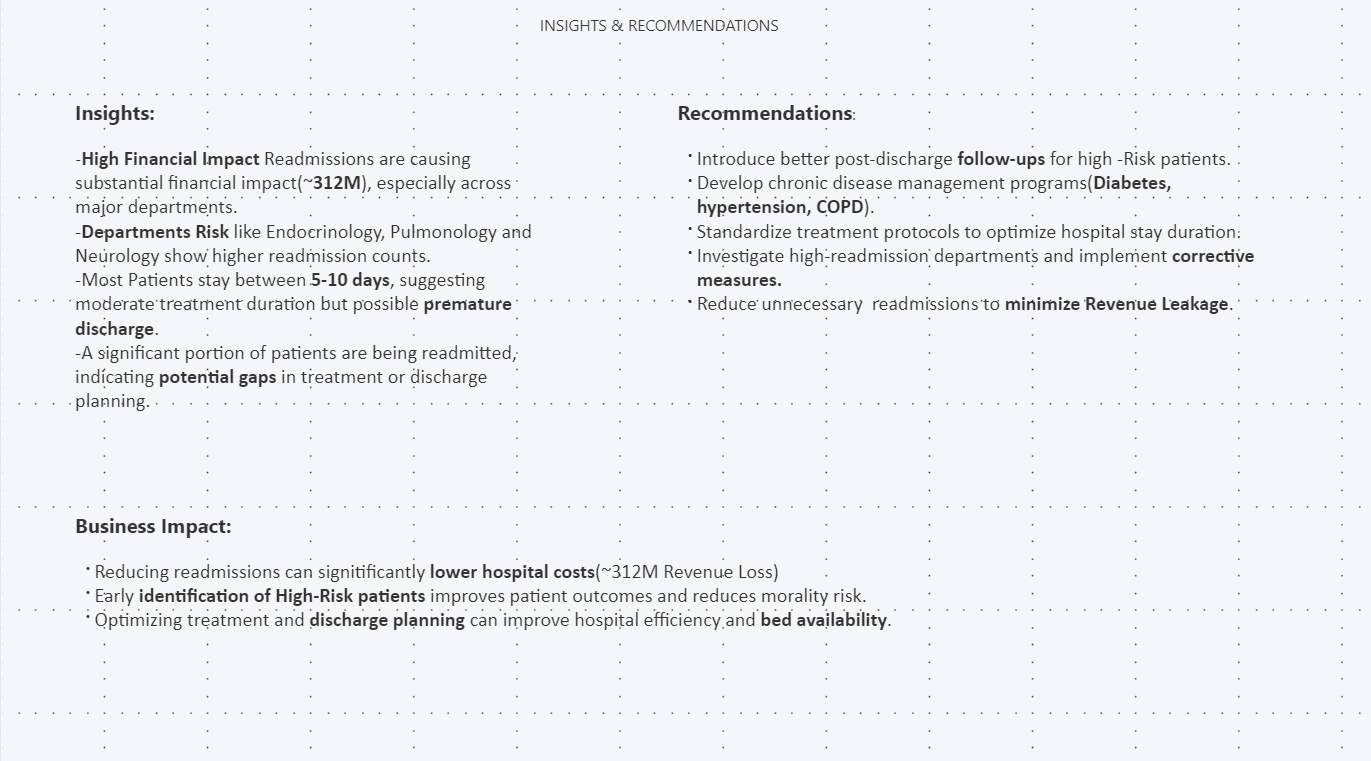

This screenshot's page, from the dashboard's own definition file:
{"tool":"powerbi","page":{"name":"Insights","canvas":[1280,720],"ordinal":3},"visuals":[{"type":"textbox","box":[64,96,464,368],"z":0},{"type":"textbox","box":[496,16,240,48],"z":1000},{"type":"textbox","box":[624,96,576,368],"z":2000},{"type":"textbox","box":[64,480,1136,160],"z":3001}]}

Visuals, with their boxes in screenshot pixels (x1, y1, x2, y2), scaled from the page's 1280x720 canvas onto the 1371x761 screenshot:
textbox: region(69, 101, 566, 490)
textbox: region(531, 17, 788, 68)
textbox: region(668, 101, 1285, 490)
textbox: region(69, 507, 1285, 676)
